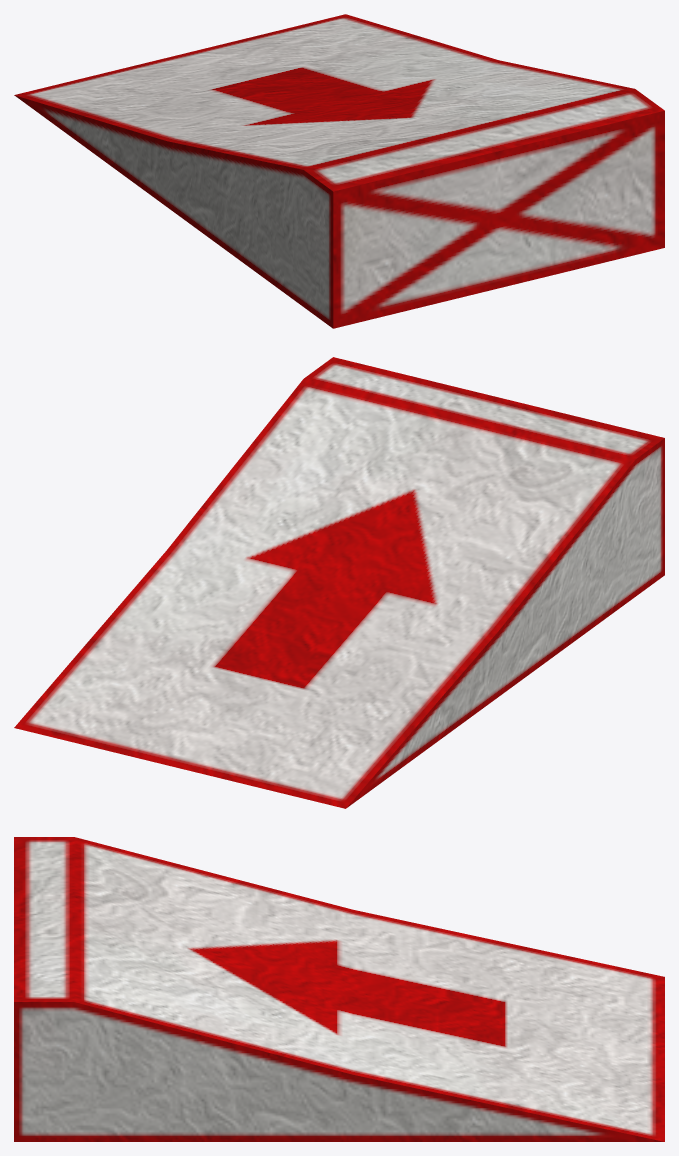
File: Ramp_Mesh.fbx
3 views of the same model, one above another, from view 1: azimuth 30°, elevation 25°; view 2: azimuth 150°, elevation 25°; view 3: azimuth 270°, elevation 25° (orthographic).
Visible parts, largest first — view 1: Ramp_Mesh; view 2: Ramp_Mesh; view 3: Ramp_Mesh.
Part boxes in pixels (box(x1,y1,x2,y2)): Ramp_Mesh: box(14, 14, 664, 328); Ramp_Mesh: box(14, 357, 664, 808); Ramp_Mesh: box(14, 837, 664, 1141).
Size of the model in its own units: 300 by 119 by 500.
